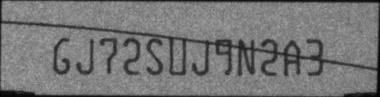2: (123, 38, 141, 76), (261, 38, 277, 76)
3: (304, 37, 324, 77)
7: (99, 37, 118, 73)
9: (215, 38, 233, 75)
A: (283, 38, 301, 76)
G: (53, 36, 71, 75)
J: (76, 38, 95, 75), (191, 39, 210, 76)
N: (237, 38, 256, 77)
S: (146, 38, 164, 75)
U: (167, 36, 187, 75)
